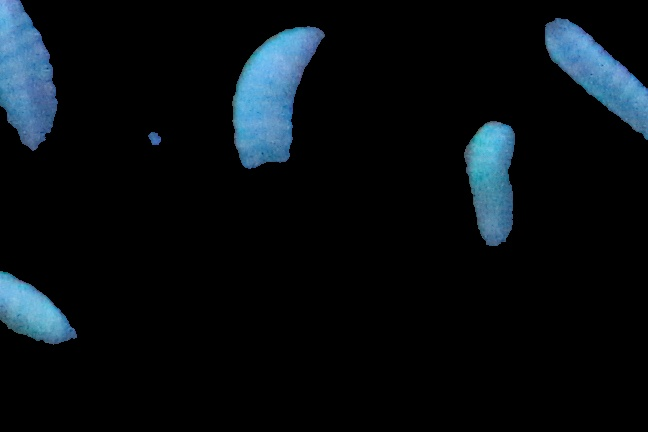larvae: (229, 25, 327, 169), (543, 17, 648, 142), (1, 236, 79, 362), (463, 116, 532, 252), (1, 1, 60, 152)
